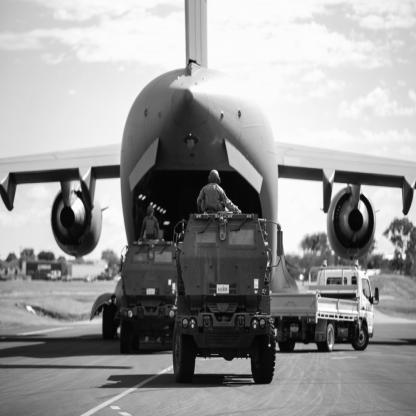C17: (2, 2, 416, 341)
